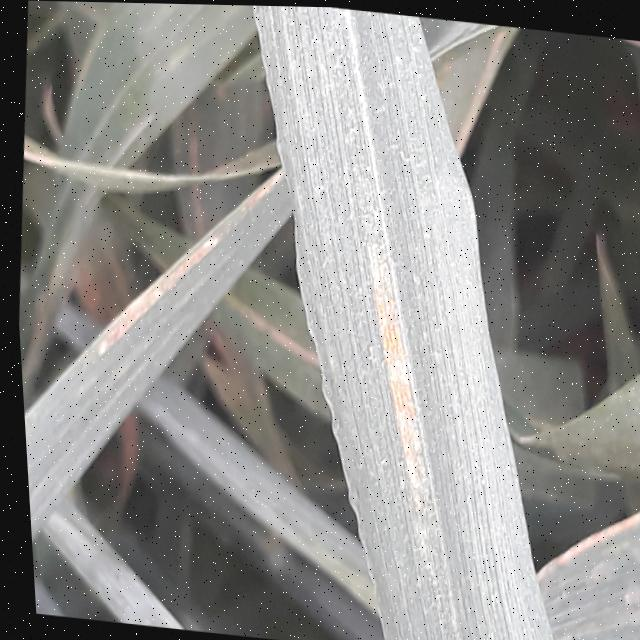yellow_rust: (35, 72, 640, 640)
